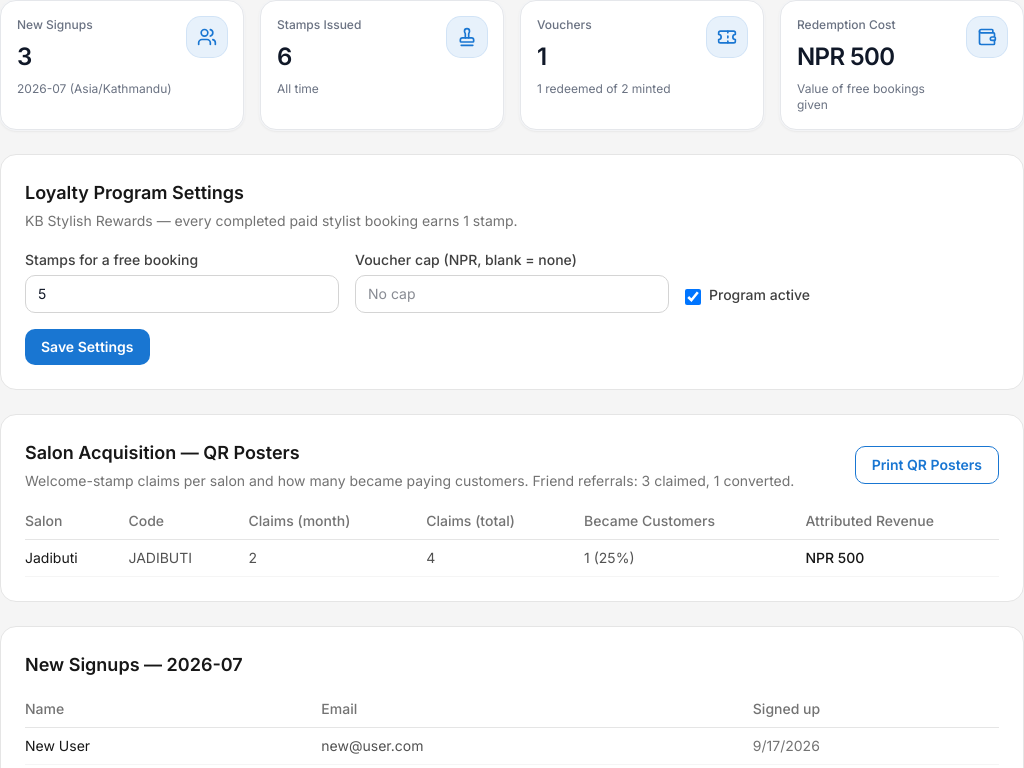
Test: CrmClient › saves config changes through updateLoyaltyConfig
Replace the text in the number field with test id "config-stamps-required" with "7" at x=182, y=294, box [25,275,339,313]
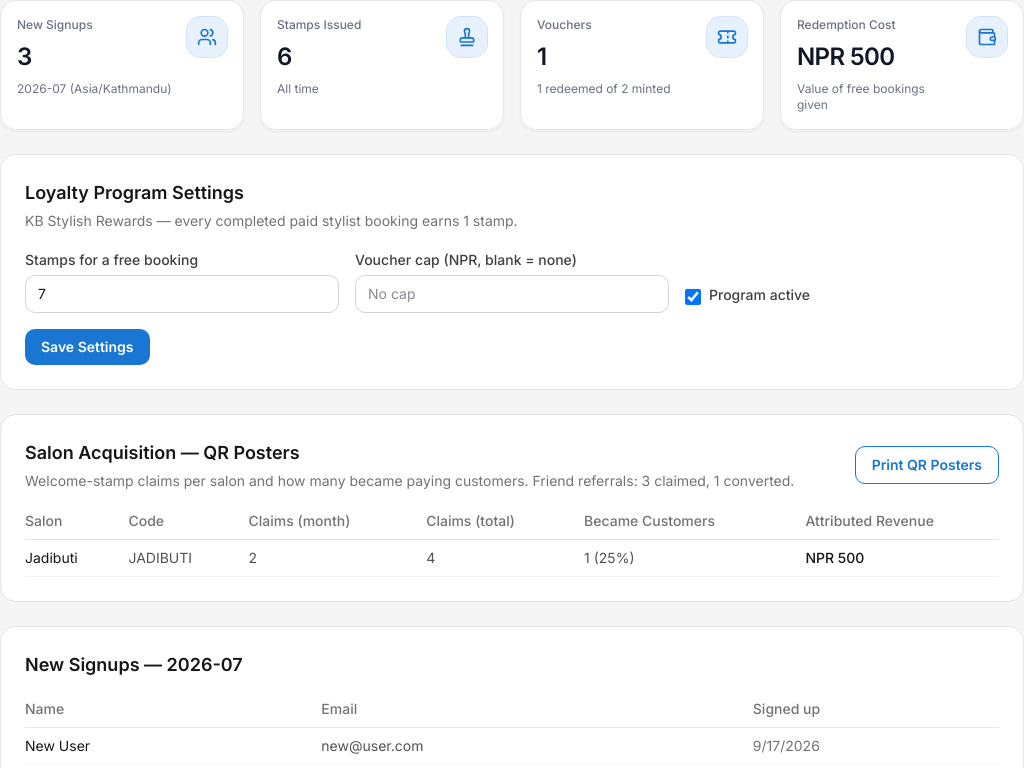
Click the button with test id "config-save" at x=87, y=347, box [25,329,150,365]
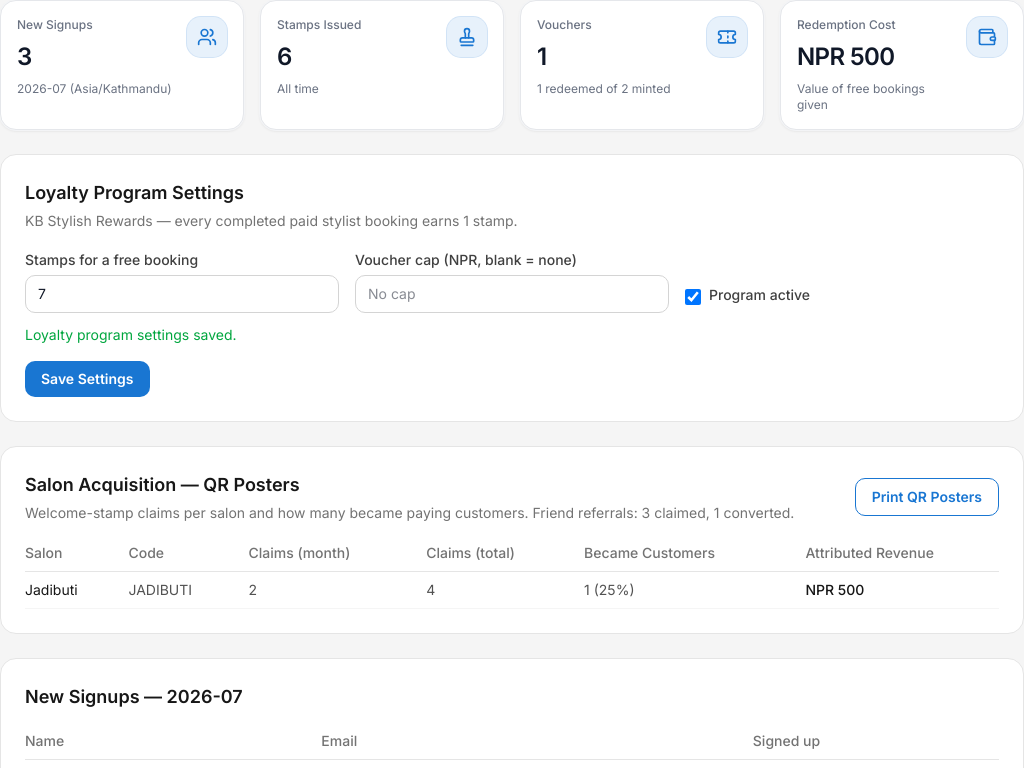
Now the text "Loyalty program settings saved." is shown, box [25,326,237,343]
